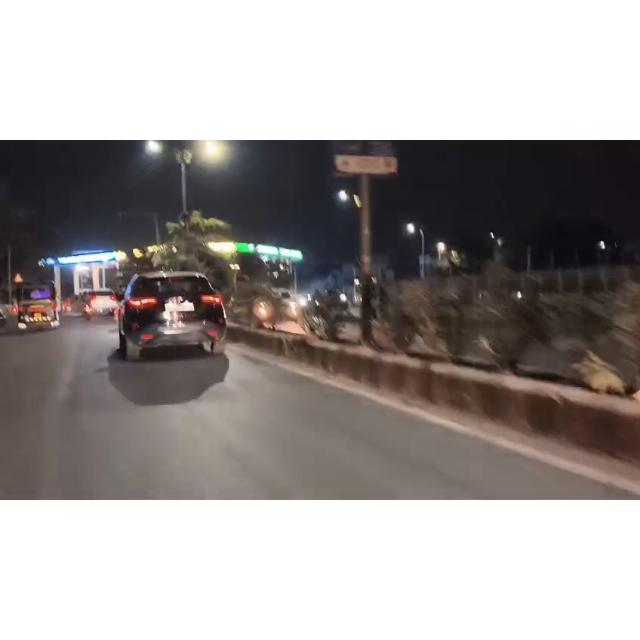auto: (16, 286, 64, 332)
car: (115, 266, 231, 358), (254, 286, 299, 332), (307, 286, 356, 320), (87, 284, 120, 320)
